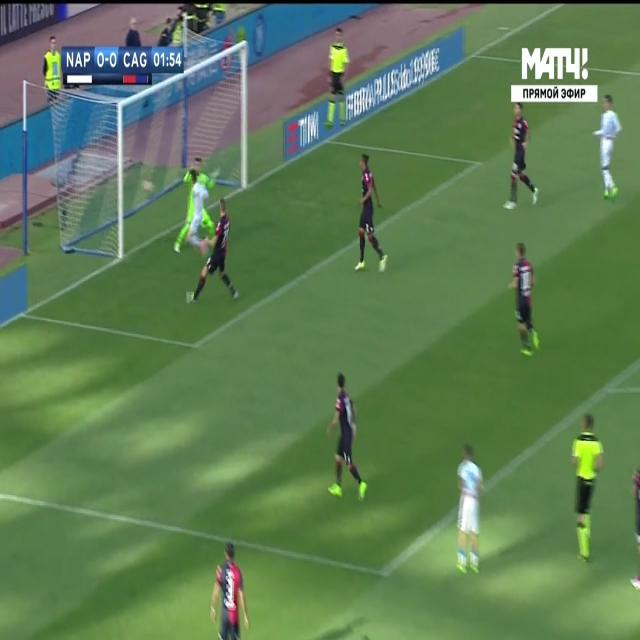Goalkeeper: (173, 158, 221, 254)
Player: (187, 198, 240, 306), (327, 372, 369, 503), (354, 151, 394, 275), (500, 99, 540, 215), (209, 540, 251, 638), (508, 242, 542, 362), (455, 440, 484, 578), (591, 92, 621, 201), (187, 167, 210, 253)
Referee: (572, 414, 606, 564), (322, 25, 348, 131)
